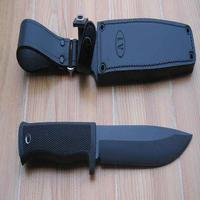knife: (14, 108, 194, 180)
